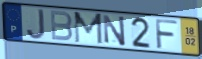2: (129, 16, 153, 50)
B: (49, 10, 74, 43)
F: (154, 17, 179, 51)
J: (25, 8, 46, 41)
M: (73, 11, 104, 46)
N: (102, 14, 127, 48)
